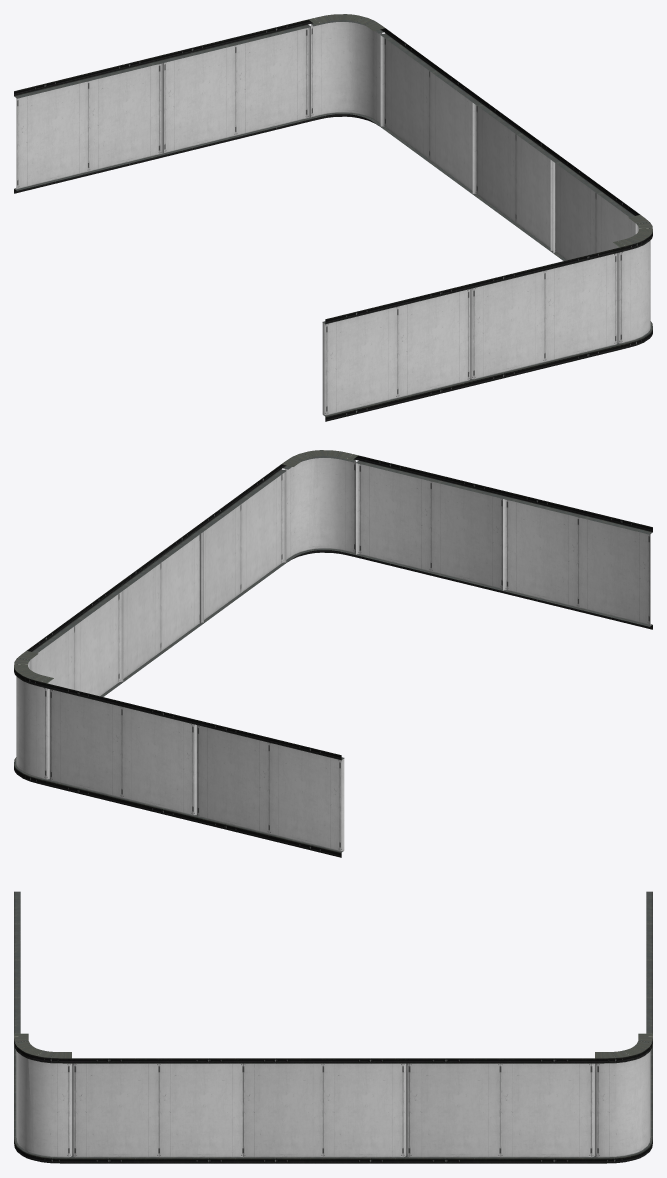
File: CarparkWalls.FBX
3 views of the same model, one above another, from view 1: azimuth 30°, elevation 25°; view 2: azimuth 150°, elevation 25°; view 3: azimuth 270°, elevation 25° (orthographic). The views are drawn at different scales.
Parts seen in each view (by area): view 1: CarparkWalls; view 2: CarparkWalls; view 3: CarparkWalls.
Part boxes in pixels (x1,y1,x2,y2): CarparkWalls: [14, 14, 652, 421]; CarparkWalls: [14, 450, 652, 857]; CarparkWalls: [14, 891, 652, 1163].
Size of the model in its own units: 14 by 4 by 22.
